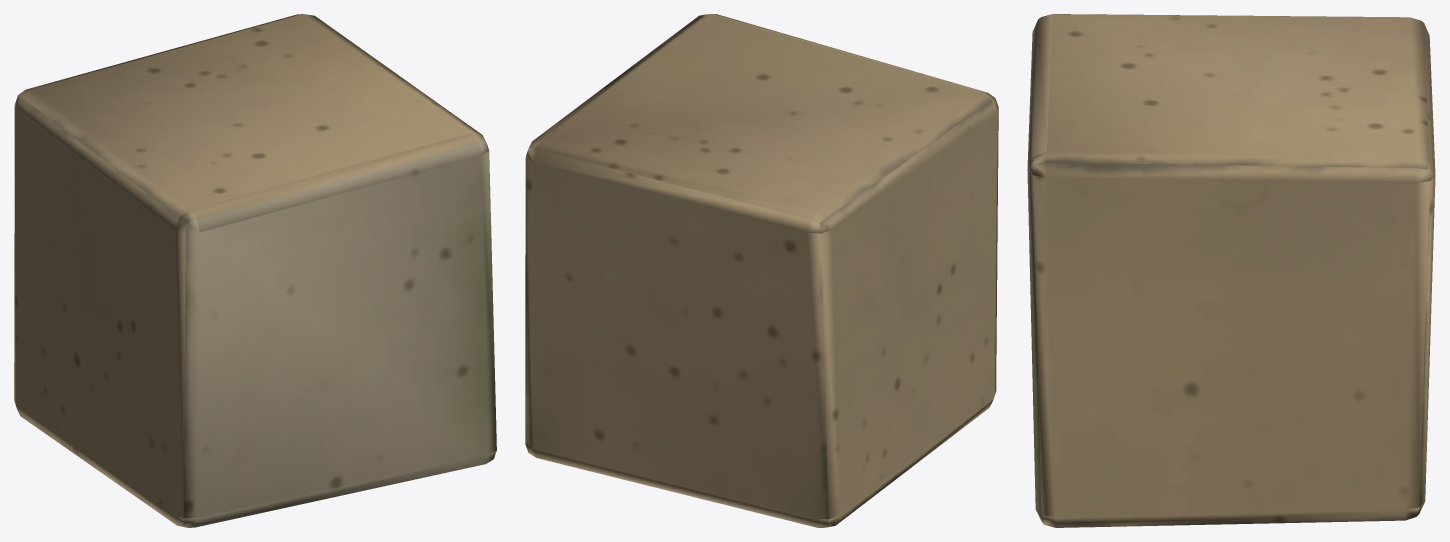
Rendered from Stone_Block.glb.
The picture shows the model from 3 angles, left to right: view 1: azimuth 30°, elevation 25°; view 2: azimuth 150°, elevation 25°; view 3: azimuth 270°, elevation 25°; orthographic projection. The views are drawn at different scales.
Parts seen in each view (by area): view 1: Stone_Block; view 2: Stone_Block; view 3: Stone_Block.
Boxes of the visible parts, x1=… form: Stone_Block: x1=14, y1=14, x2=496, y2=527; Stone_Block: x1=525, y1=14, x2=998, y2=527; Stone_Block: x1=1027, y1=14, x2=1435, y2=527.
Bounding box in the file's own units: 0.5105 × 0.5115 × 0.5128.
Materials: 1 (1 with a texture image).
